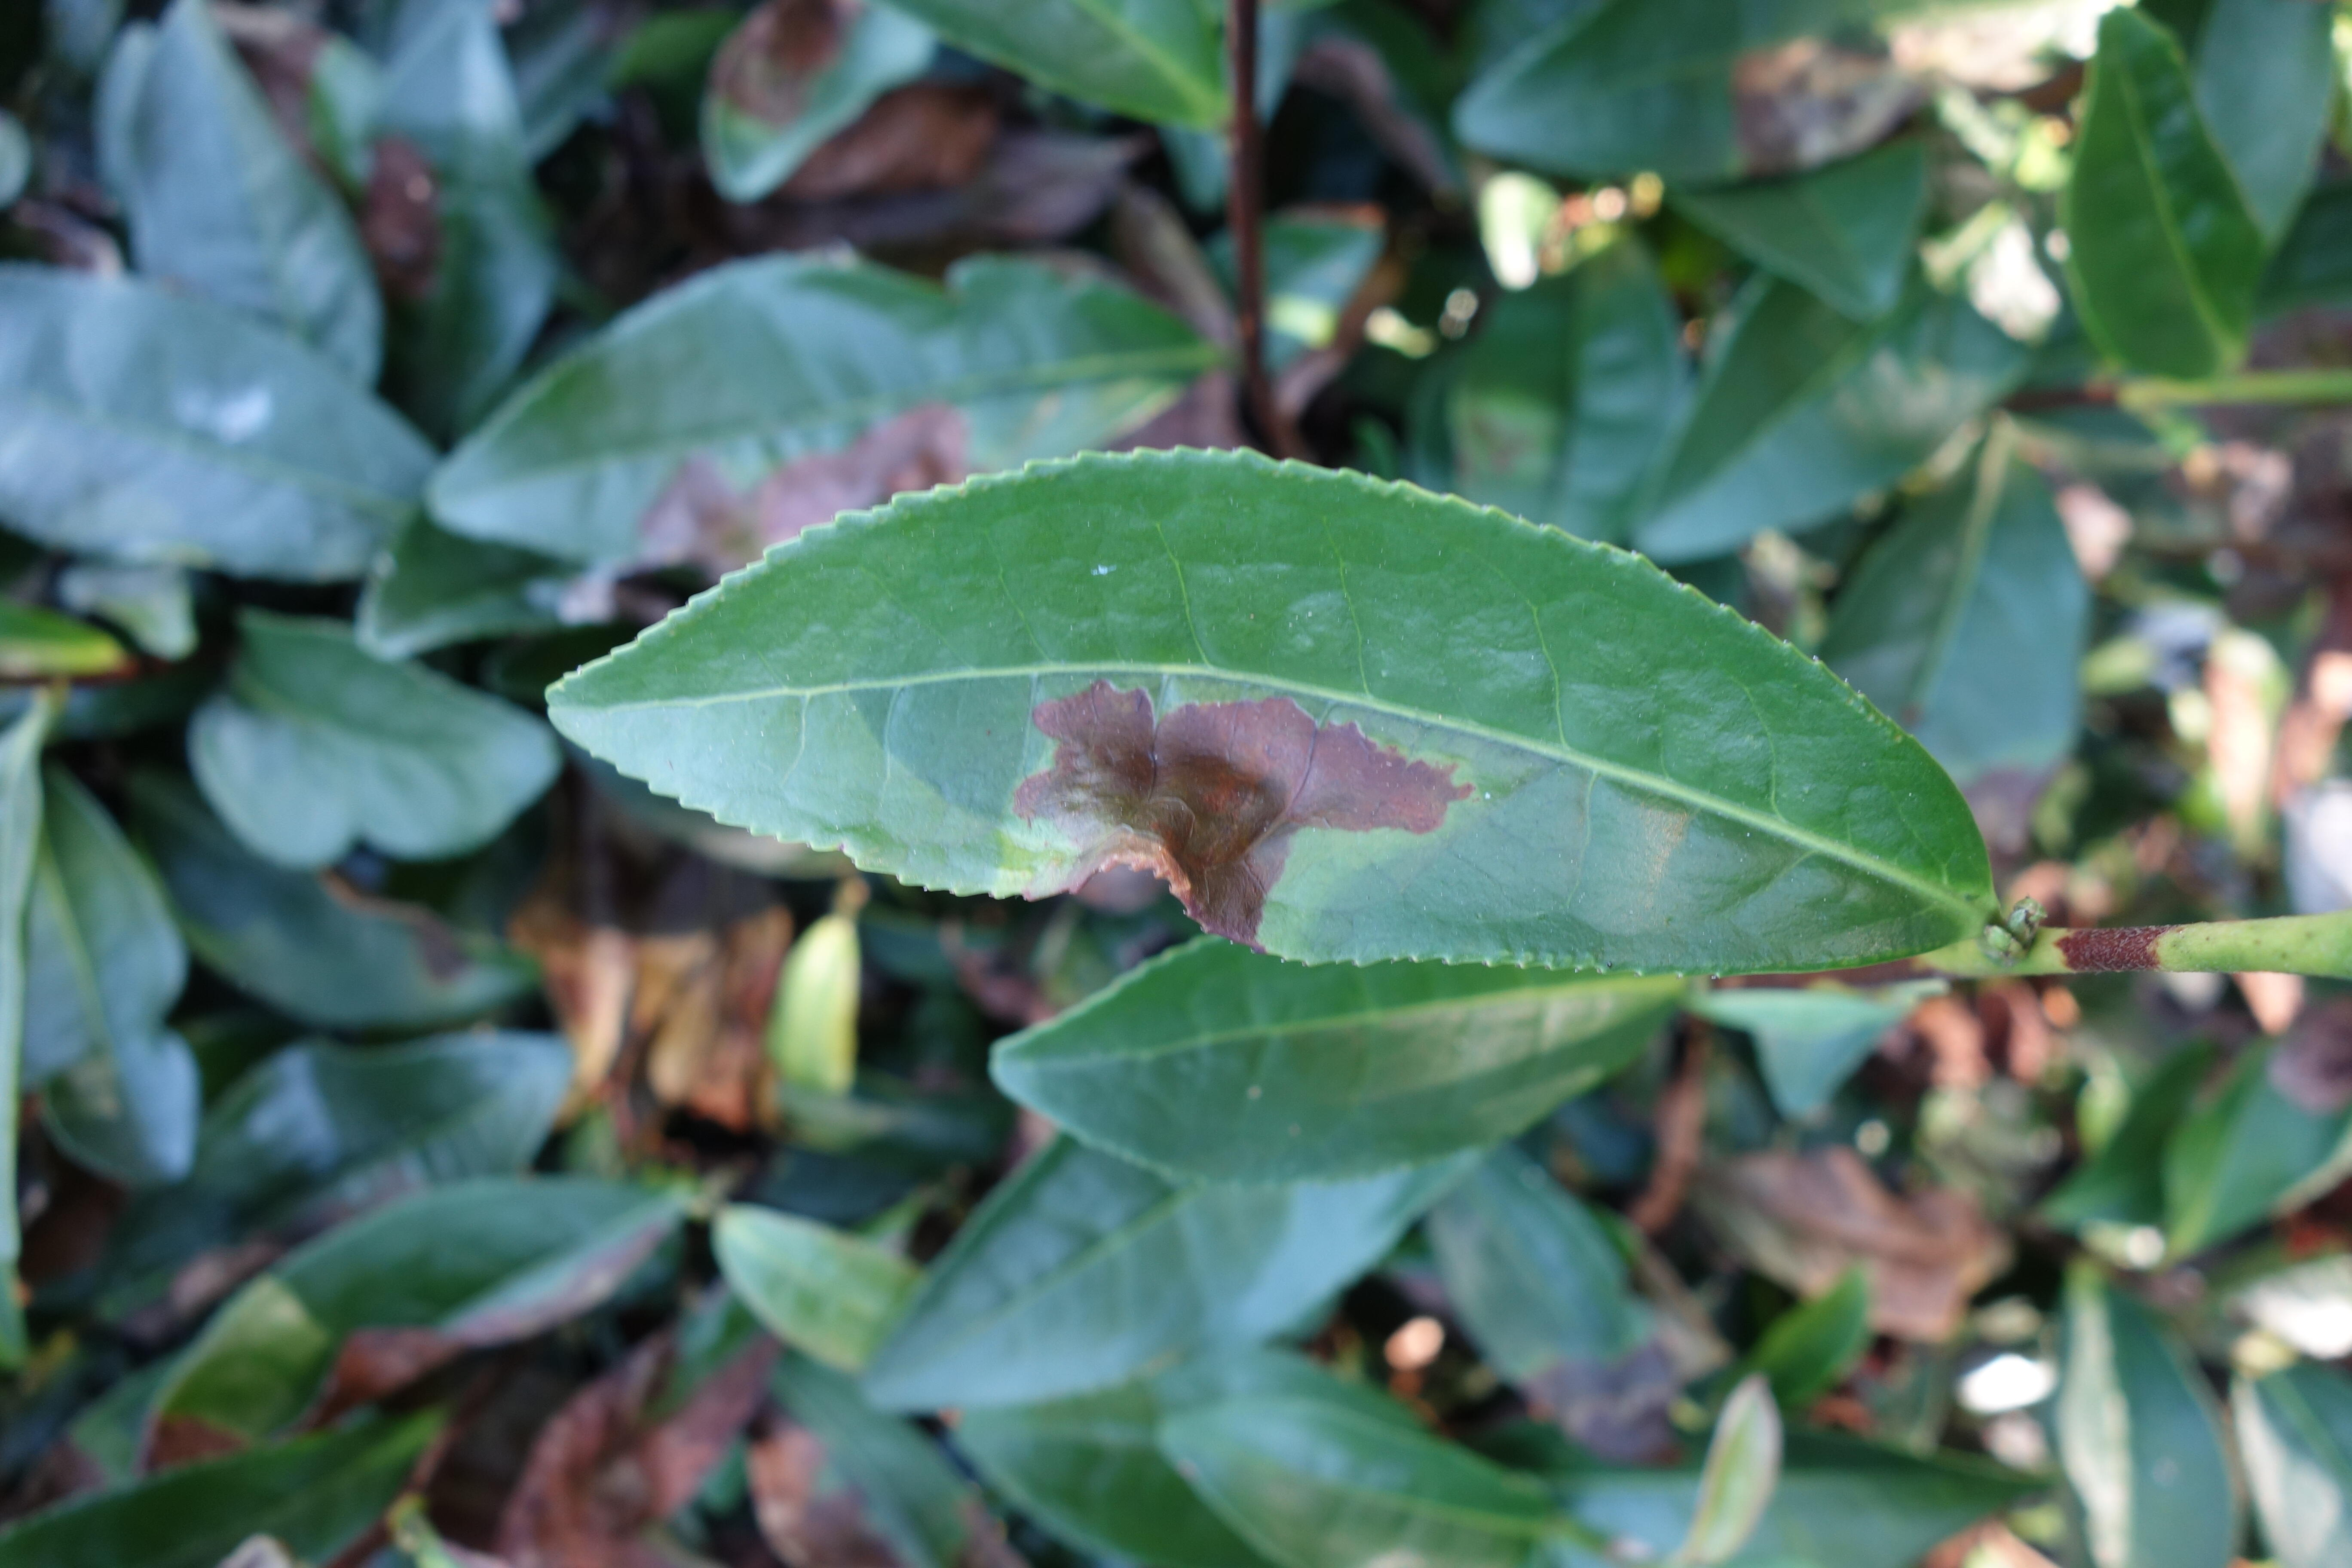tanju_high: (544, 439, 2005, 964)
